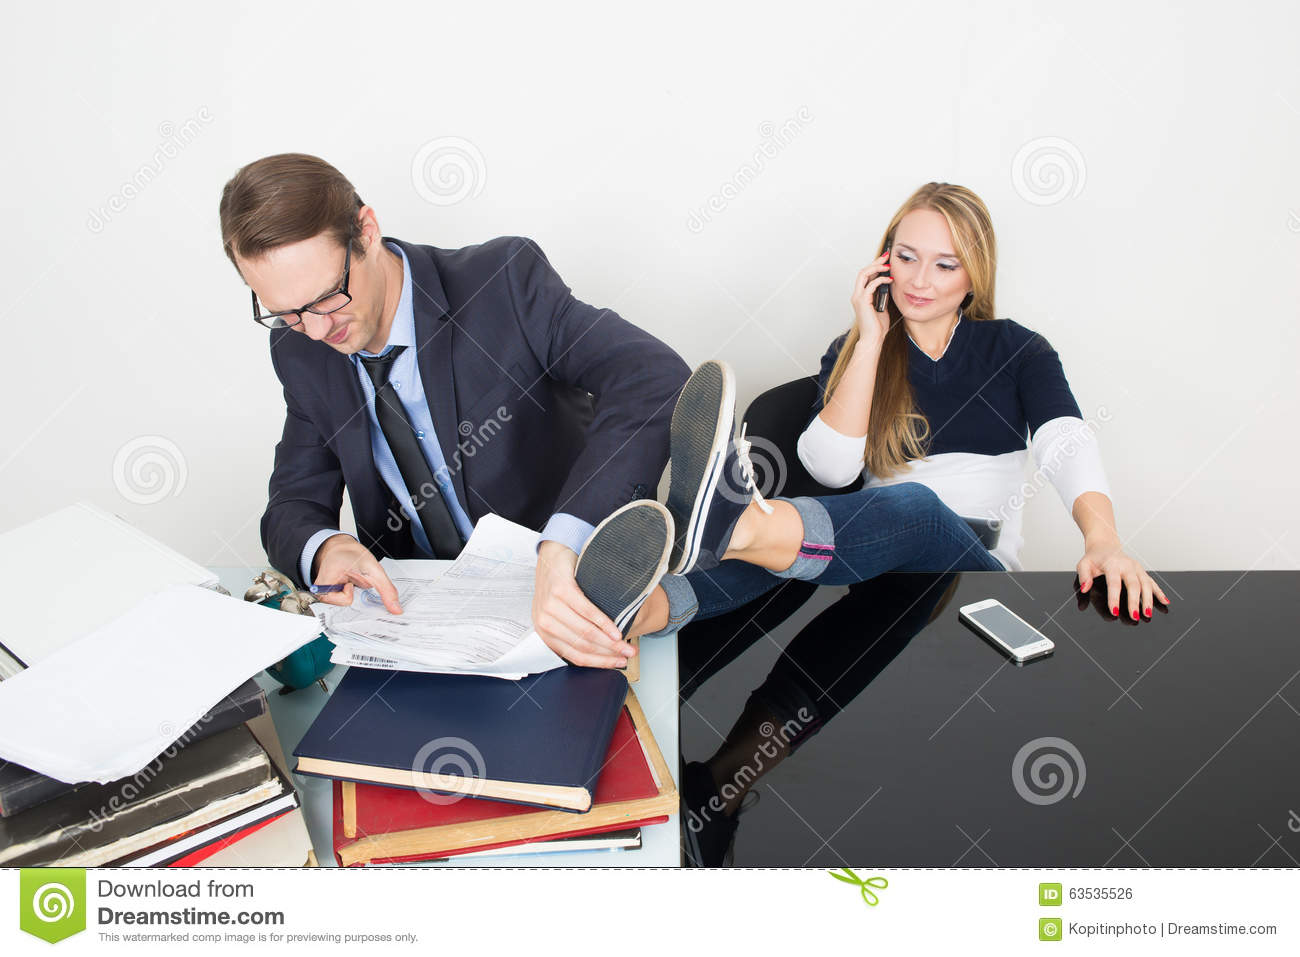phone: (870, 239, 899, 318)
talk: (848, 233, 969, 349)
